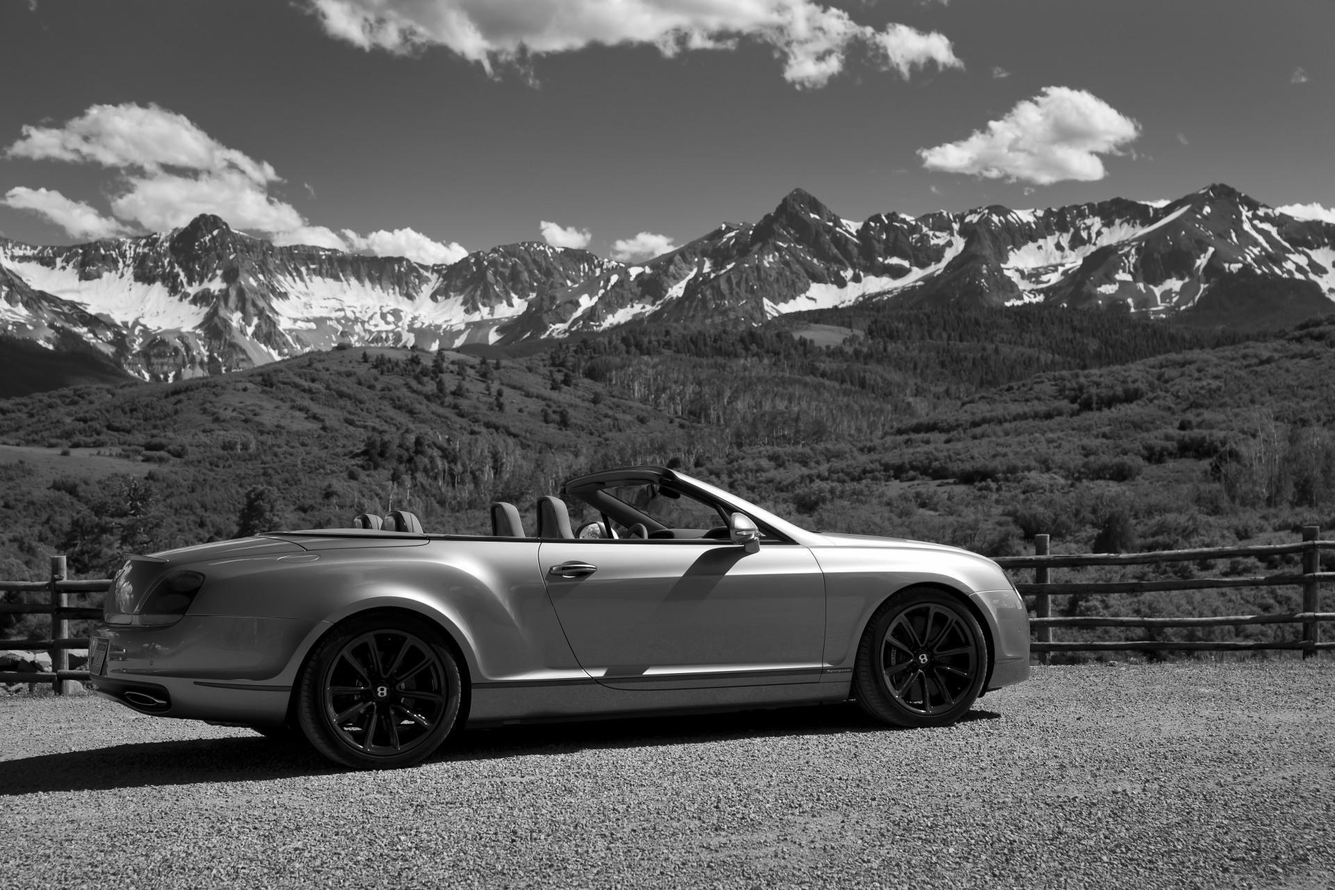car: (86, 464, 1035, 768)
